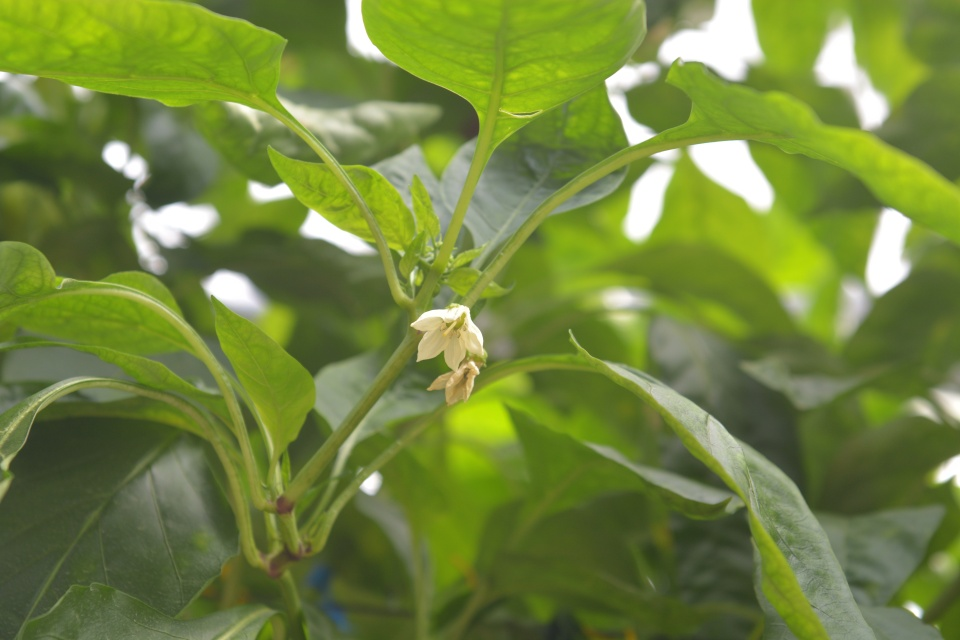flower: (406, 301, 484, 373)
